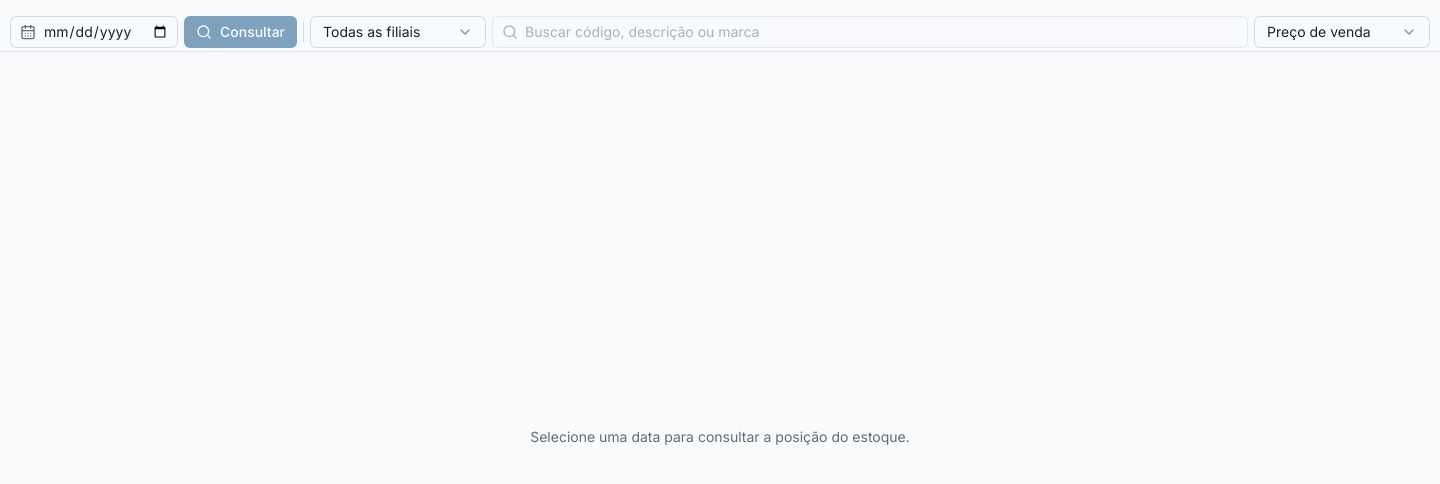
Test: EstoqueRetroativoPage › diferencia resultado sem correspondencia de uma consulta vazia
The image size is (1440, 484).
Type "2026-08-31" into the date field named "Data do estoque" at x=94, y=32, box [10,16,178,48]
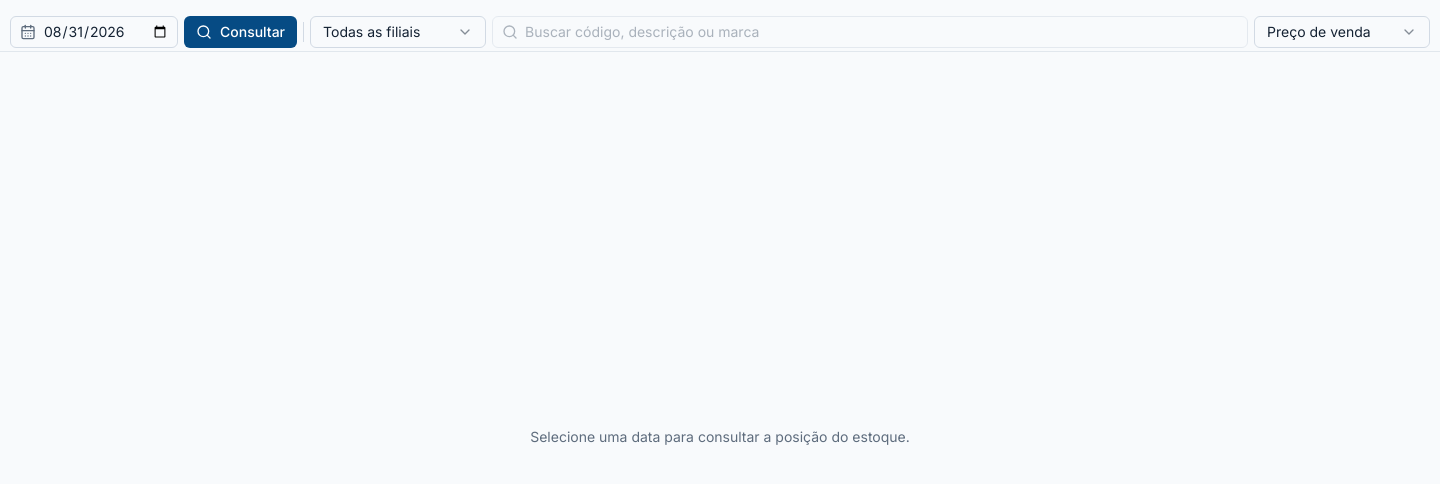
Click the button "Consultar" at x=240, y=32, box [184,16,297,48]
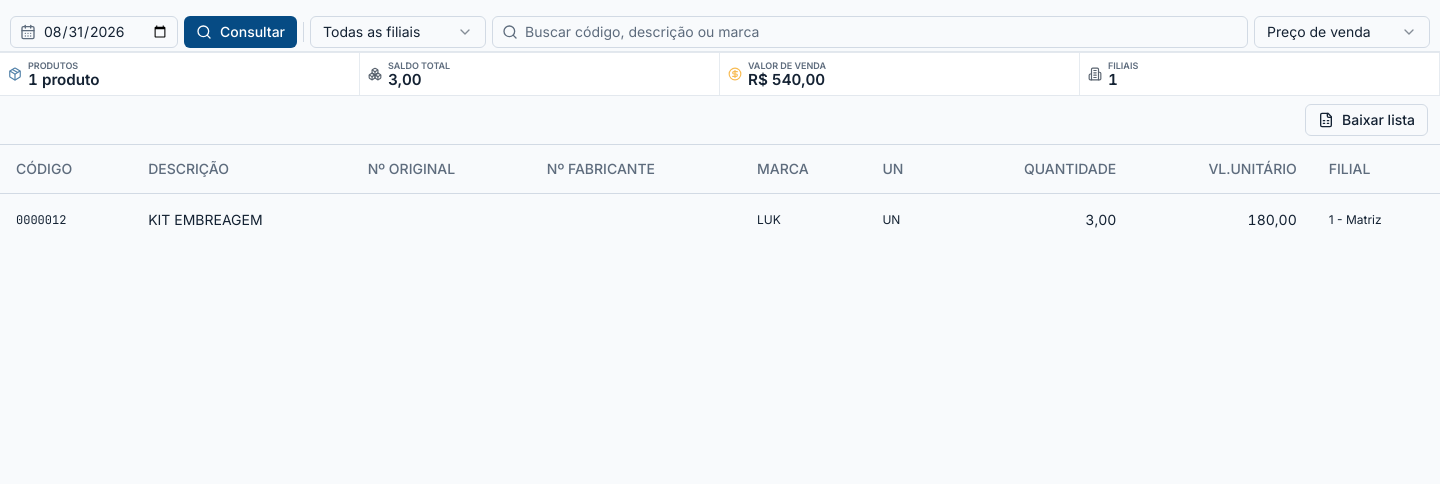
Now the text "1 produto" is shown, box [28,70,100,89]
Type "inexistente" into the search field named "Buscar nos resultados" at x=870, y=32, box [492,16,1248,48]
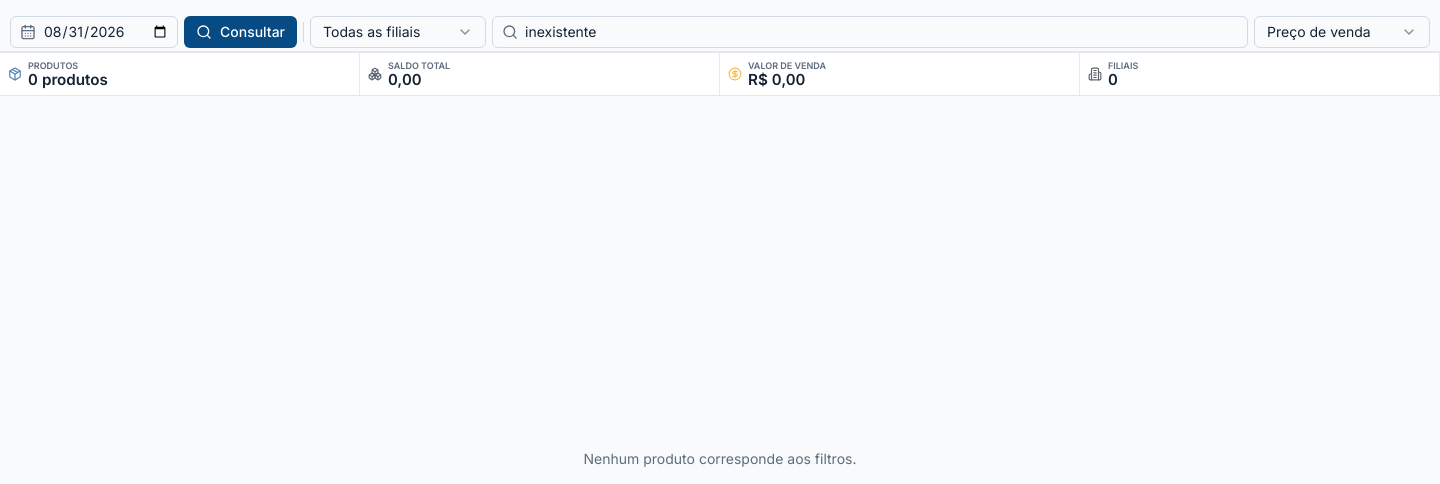
Now the text "Nenhum produto corresponde aos filtros." is shown, box [584,450,856,467]
Now the table is gone
